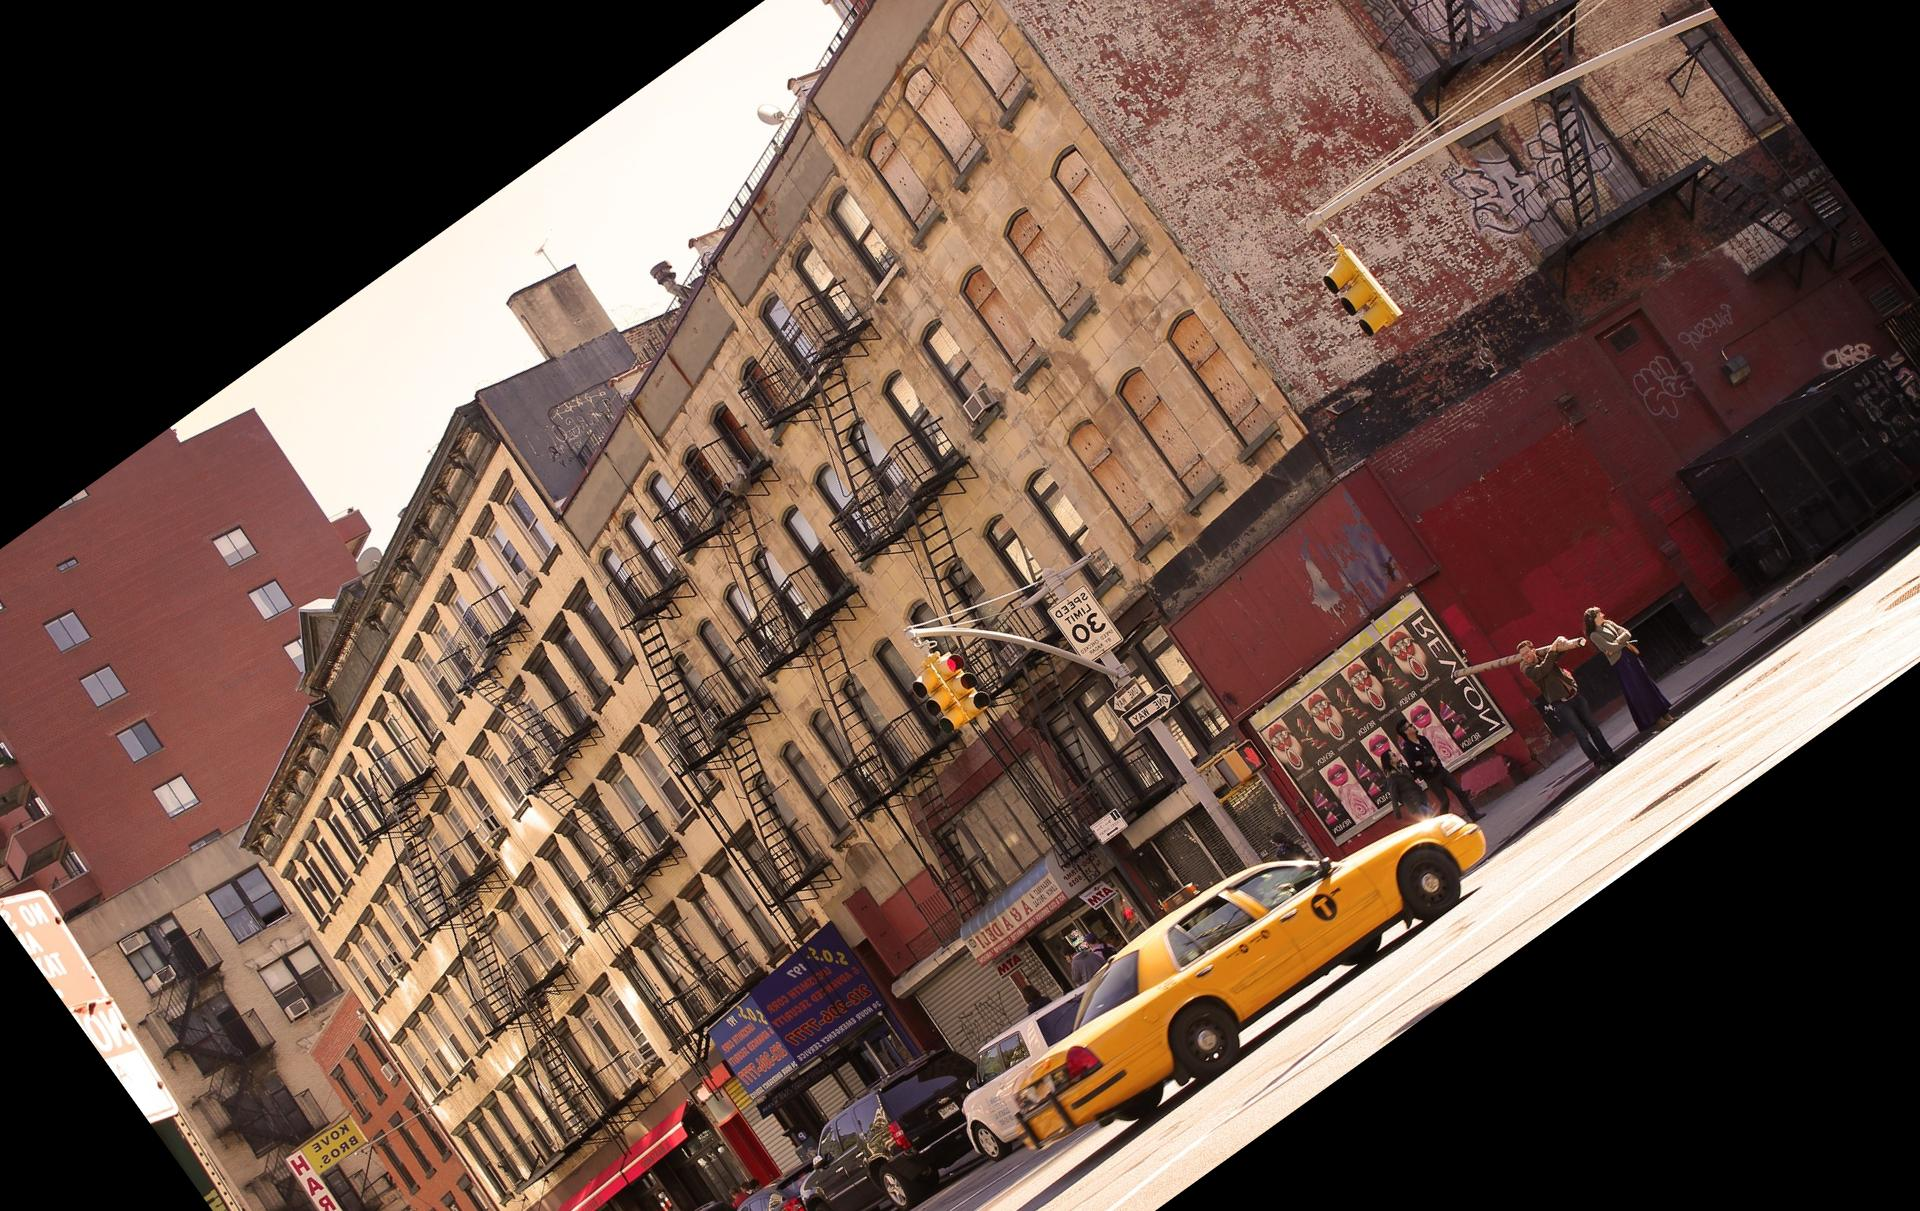taxi: (1014, 792, 1455, 1145)
